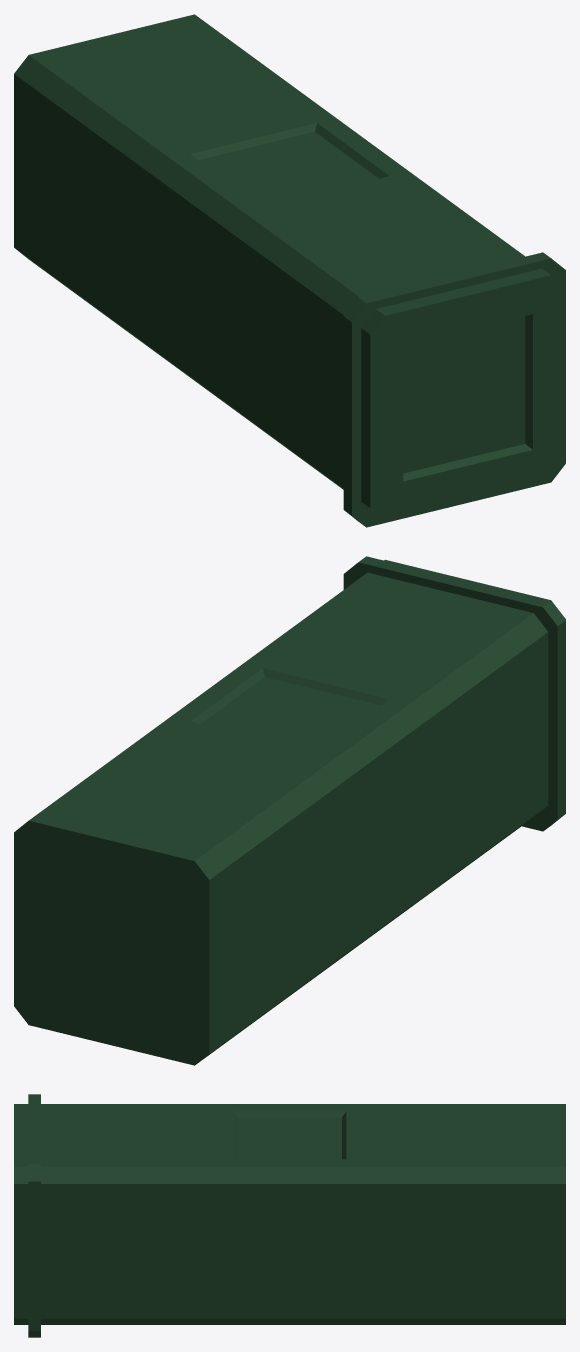
Rendered from ammo-crate-pak.glb.
3 views of the same model, one above another, from view 1: azimuth 30°, elevation 25°; view 2: azimuth 150°, elevation 25°; view 3: azimuth 270°, elevation 25° (orthographic). The views are drawn at different scales.
Parts seen in each view (by area): view 1: ammo-crate-pak; view 2: ammo-crate-pak; view 3: ammo-crate-pak.
Part boxes in pixels (x1=…): ammo-crate-pak: x1=14, y1=14, x2=565, y2=527; ammo-crate-pak: x1=14, y1=556, x2=565, y2=1065; ammo-crate-pak: x1=14, y1=1094, x2=565, y2=1337.
Bounding box in the file's own units: 0.2268 × 0.2268 × 0.654.
1 material, 1 textured.
